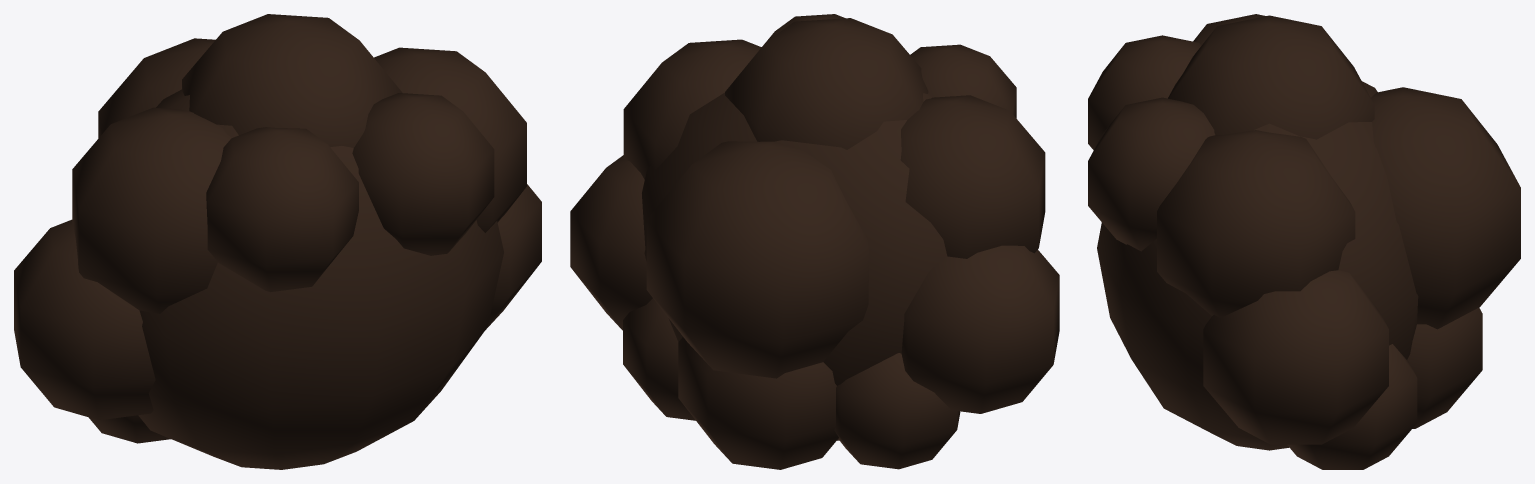
Rendered from cabelo-b.glb.
3 views of the same model, side by side, from view 1: azimuth 30°, elevation 25°; view 2: azimuth 150°, elevation 25°; view 3: azimuth 270°, elevation 25° (orthographic). The views are drawn at different scales.
Parts seen in each view (by area): view 1: cabelo-b; view 2: cabelo-b; view 3: cabelo-b.
Boxes of the visible parts, x1,y1,x2,y2 form: cabelo-b: (14, 14, 541, 469); cabelo-b: (570, 14, 1059, 469); cabelo-b: (1088, 14, 1520, 469).
Bounding box in the file's own units: 0.7748 × 0.64 × 0.6184.
